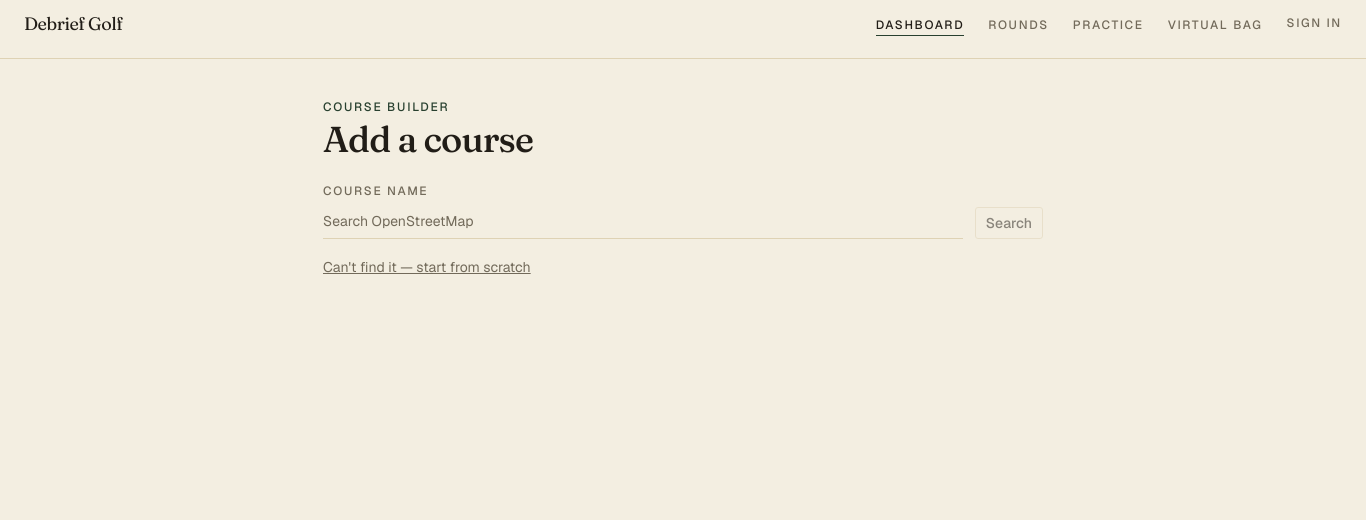
it: NewCoursePage › shows a save error and stays on the build step
The image size is (1366, 520).
Click the button "Can't find it — start from scratch" at point(427, 267), box [323,257,531,277]
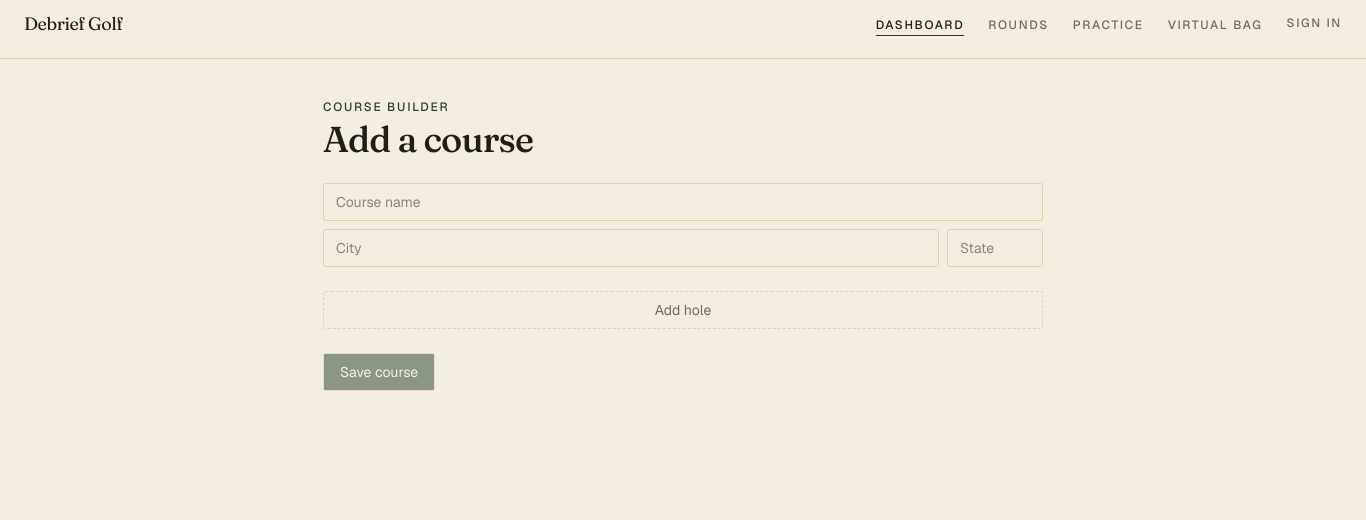
Type "My New Course" into the field labelled "Course name" at point(683, 202), box [323,183,1043,221]
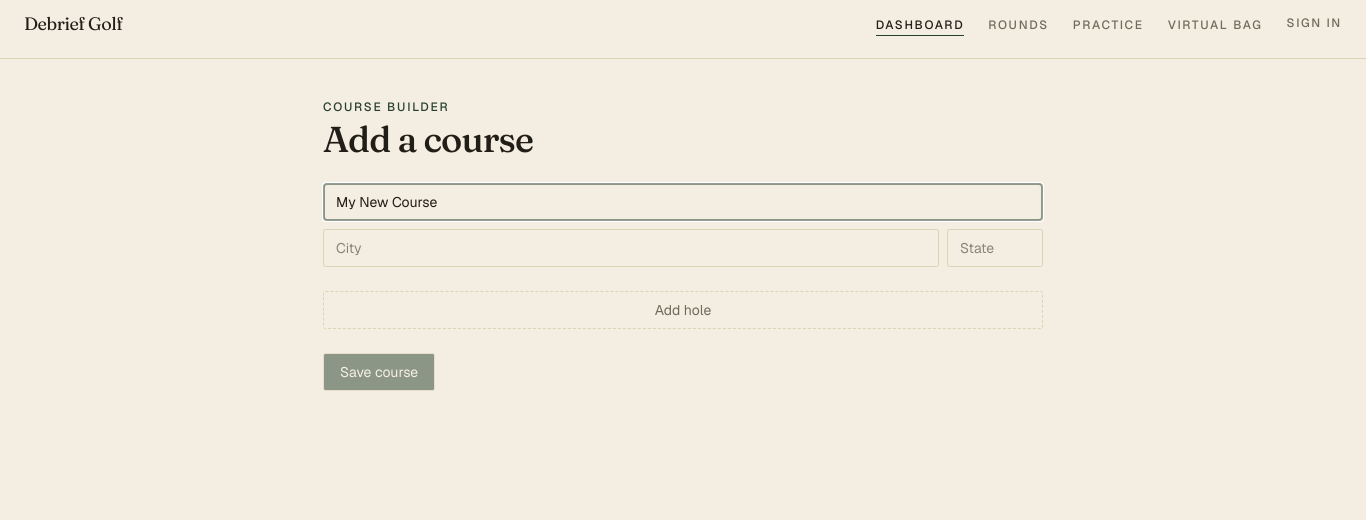
Click the button "Add hole" at point(683, 310), box [323,291,1043,329]
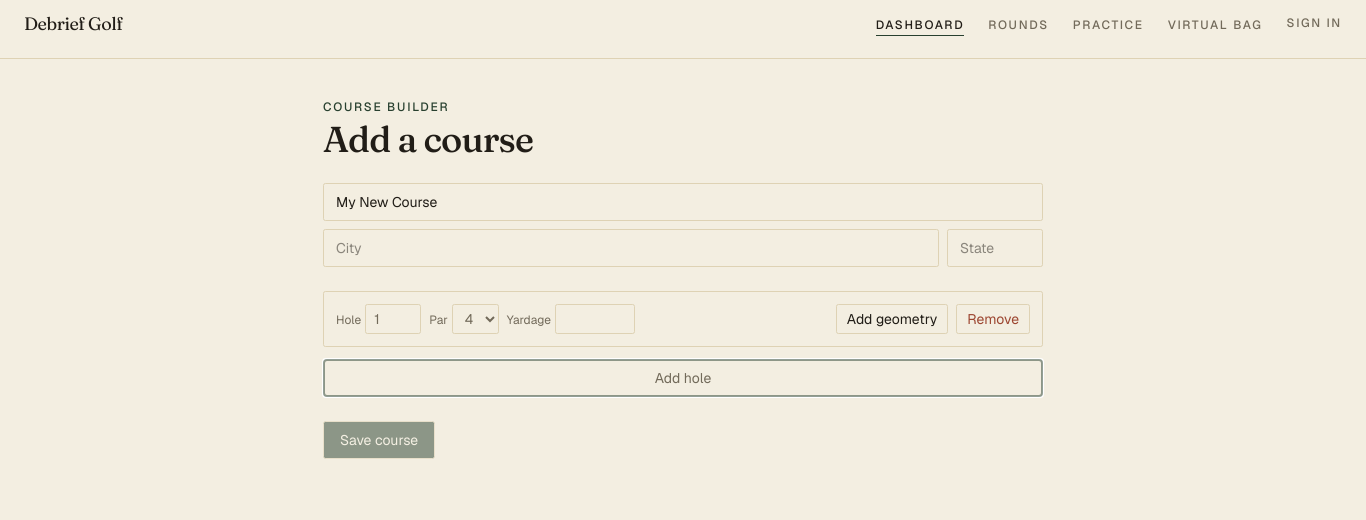
Type "400" into the number field labelled "Yardage" at point(595, 319), box [555,304,635,334]
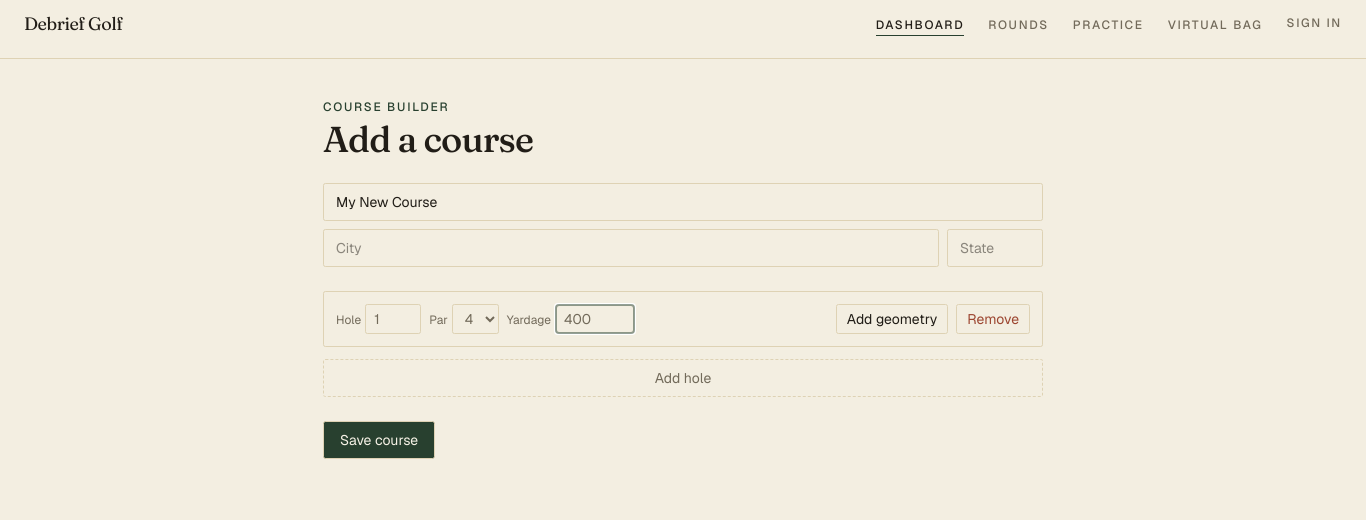
Click the button "Save course" at point(379, 440), box [323,421,435,459]
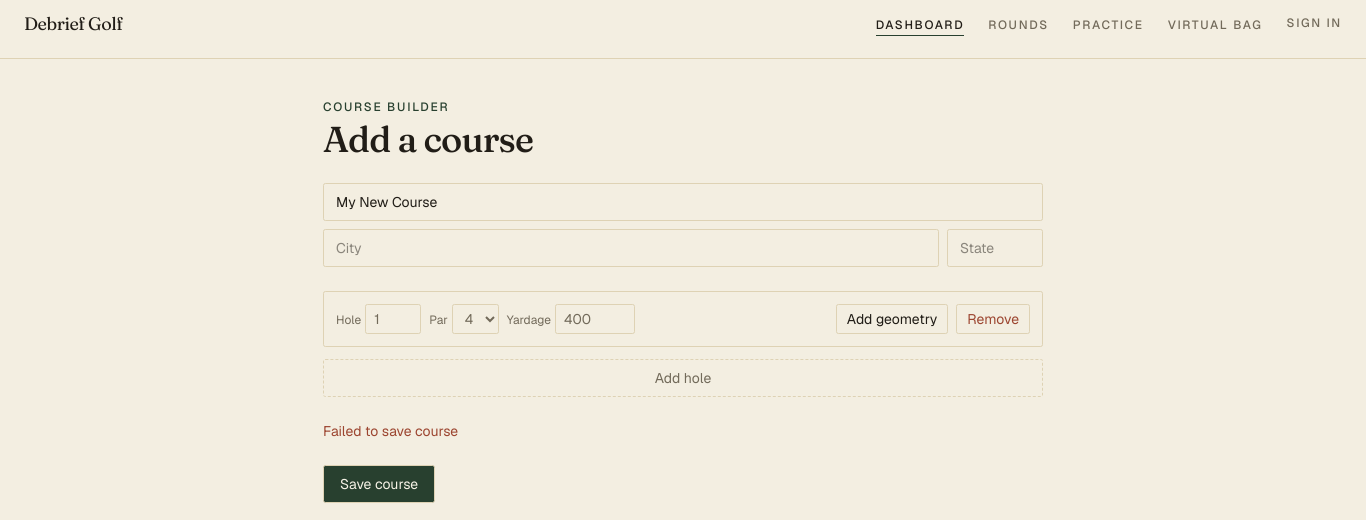
Expected: the message "Failed to save course" is shown, [323,422,458,440]
